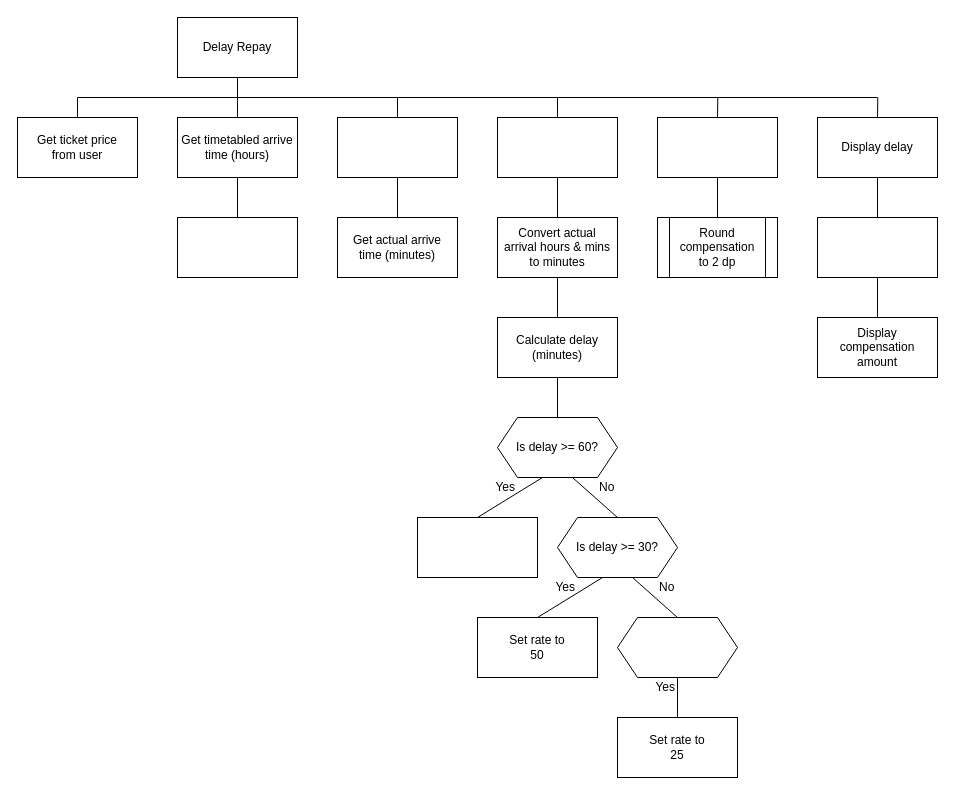
This 955x795 diagram has some shape labels left out. Here are the shapes that lost their labels. From the top down, the box of each, then its label:
(336, 116, 458, 178): Get actual arrive time (hours)
(496, 116, 618, 178): Convert timetabled arrival hours & mins to minutes
(656, 116, 778, 178): Calculate compensation: price * (rate / 100)
(176, 216, 298, 278): Get timetabled arrive time (minutes)
(816, 216, 938, 278): Display compensation rate
(416, 516, 538, 578): Set rate to 100
(616, 616, 738, 678): Is delay >= 15?
